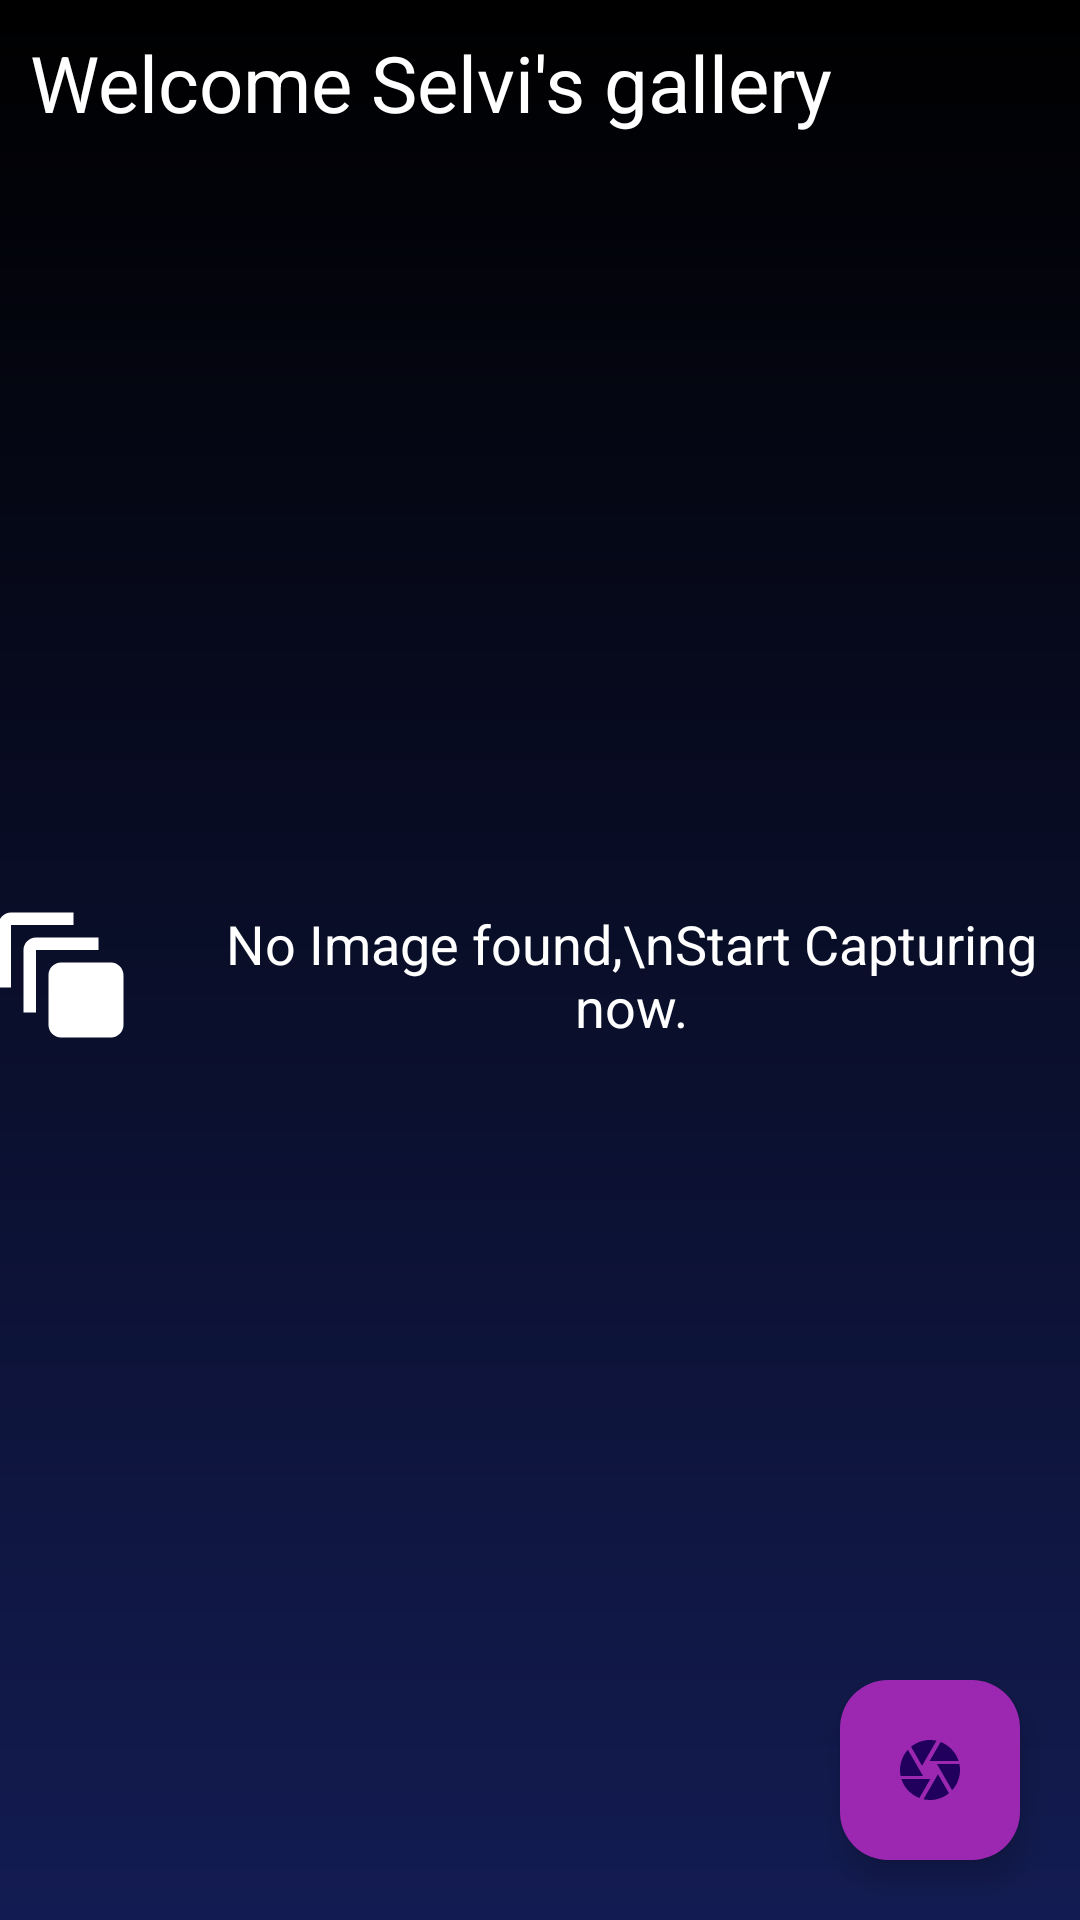

Icon bounding boxes for this 1080px x 1920px phone screenshot, format bbox=(x1, y1, x2, y2):
camera: bbox=(840, 1680, 1020, 1860)
